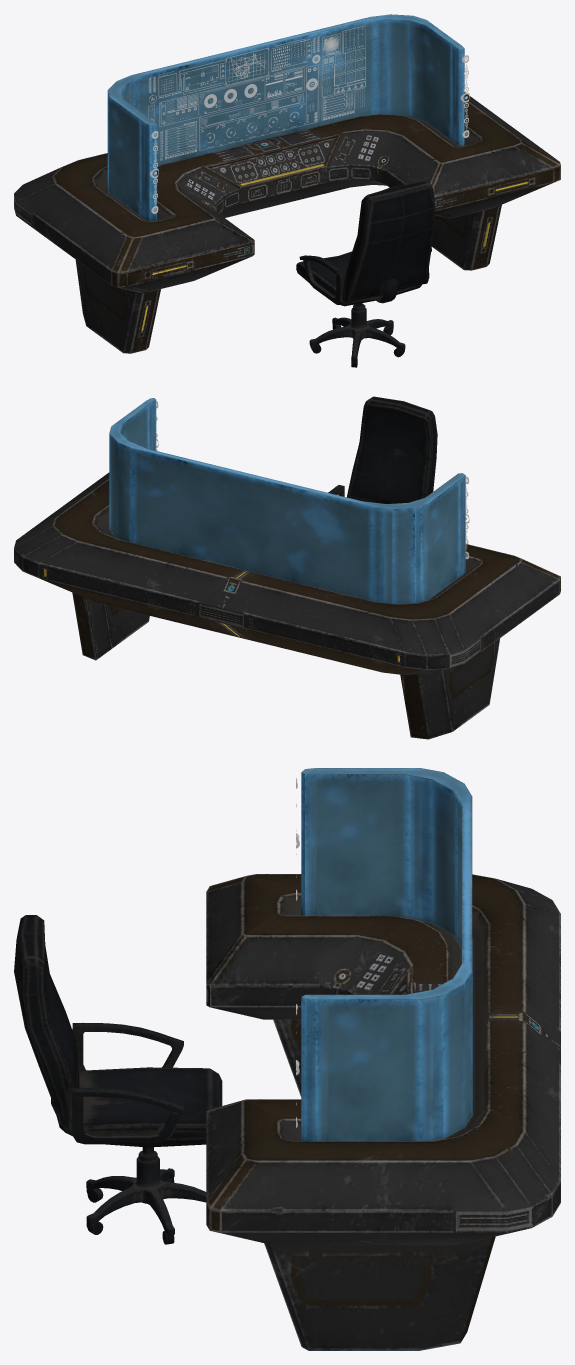
File: obj_weathered_workstation.glb
3 renders of one model, top to bottom at view 1: azimuth 30°, elevation 25°; view 2: azimuth 150°, elevation 25°; view 3: azimuth 270°, elevation 25°, orthographic. The views are drawn at different scales.
Parts seen in each view (by area): view 1: Object_2, Object_3; view 2: Object_2; view 3: Object_2.
Part boxes in pixels (x1,y1,x2,y2): Object_2: [14, 14, 560, 367]; Object_3: [148, 25, 469, 213]; Object_2: [14, 396, 560, 739]; Object_2: [14, 768, 560, 1350].
Size of the model in its own units: 59.86 by 28.5 by 42.3.
2 materials, 2 textured.
